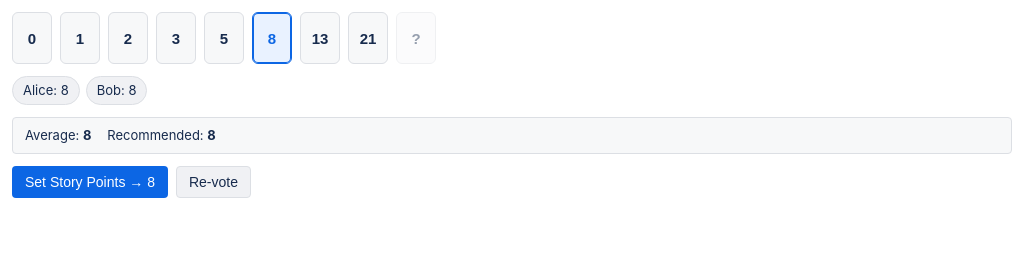
Scenario: ScrumPokerApp revealed-state controls, consensus override, write-back, and clipboard fallback (R13) › preserves revealed votes and targetScore and displays alert banner on "forbidden", "jira-error", or applyStoryPoints RPC rejection
Click the button with test id "apply-story-points-button" at x=90, y=182, box x1=12 y1=166 x2=168 y2=198
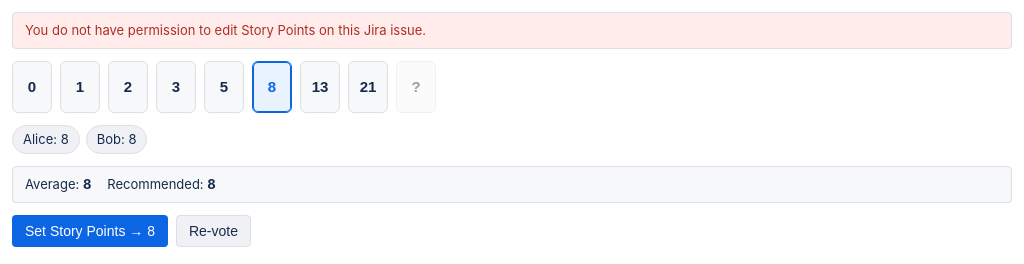
Expected: the elements with test id "participant-chip" read "Alice: 8", "Bob: 8", in this order, x1=12 y1=125 x2=80 y2=154; x1=86 y1=125 x2=147 y2=154
Now the message with test id "error-banner" reads "You do not have permission to edit Story Points on this Jira issue.", box x1=25 y1=22 x2=426 y2=38
Click the button with test id "apply-story-points-button" at x=90, y=230, box x1=12 y1=214 x2=168 y2=246
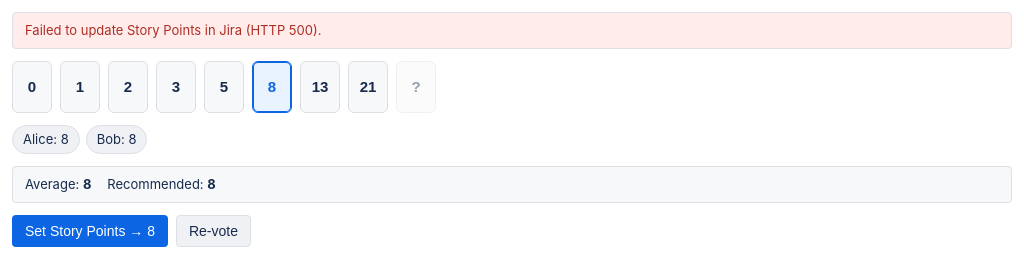
Expected: the elements with test id "participant-chip" read "Alice: 8", "Bob: 8", in this order, x1=12 y1=125 x2=80 y2=154; x1=86 y1=125 x2=147 y2=154
Now the message with test id "error-banner" reads "Failed to update Story Points in Jira (HTTP 500).", box x1=25 y1=22 x2=322 y2=38
Note: RPC rejection
Click the button with test id "apply-story-points-button" at x=90, y=230, box x1=12 y1=214 x2=168 y2=246
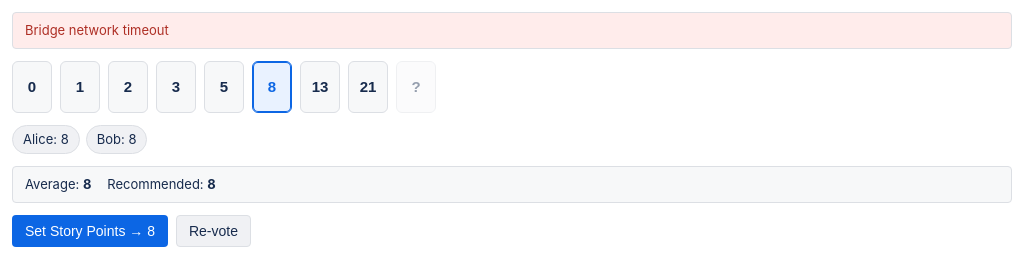
Expected: the elements with test id "participant-chip" read "Alice: 8", "Bob: 8", in this order, x1=12 y1=125 x2=80 y2=154; x1=86 y1=125 x2=147 y2=154
Now the message with test id "error-banner" reads "Bridge network timeout", box x1=25 y1=22 x2=169 y2=38
